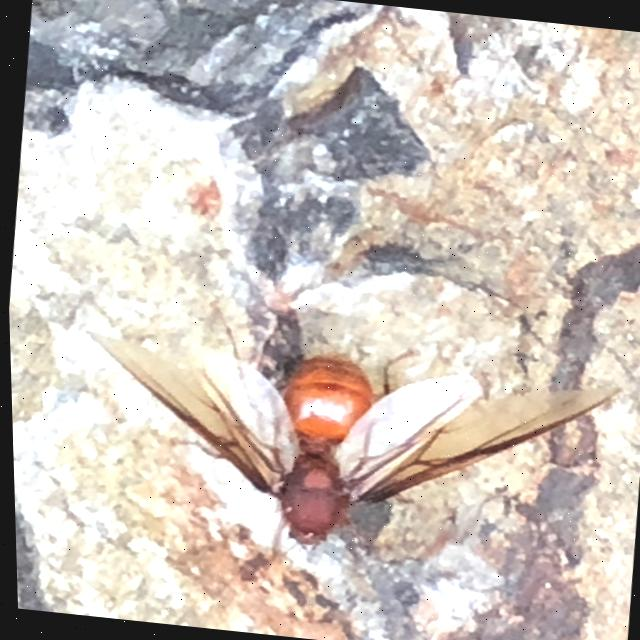Alive-Male-Alate: (60, 311, 627, 597)
